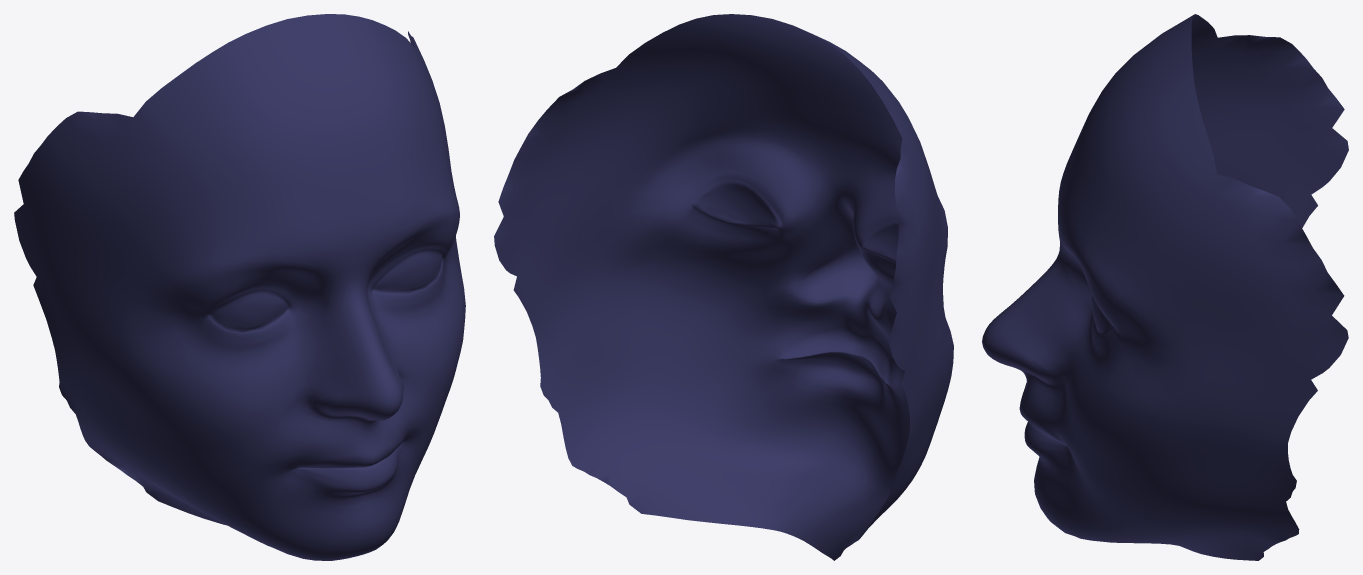
The model's file is morph.fbx.
3 views of the same model, side by side, from view 1: azimuth 30°, elevation 25°; view 2: azimuth 150°, elevation 25°; view 3: azimuth 270°, elevation 25° (orthographic). The views are drawn at different scales.
Parts seen in each view (by area): view 1: geo_morph; view 2: geo_morph; view 3: geo_morph.
Part boxes in pixels (<box>): geo_morph: <box>14,14,465,560</box>; geo_morph: <box>494,14,953,560</box>; geo_morph: <box>982,14,1348,560</box>.
Bounding box in the file's own units: 161 × 201 × 132.
